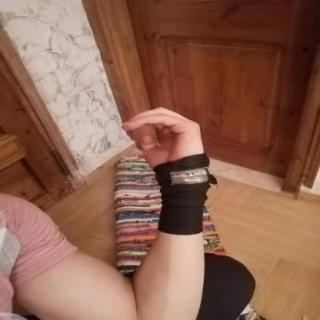JEEM: (112, 102, 222, 182)
